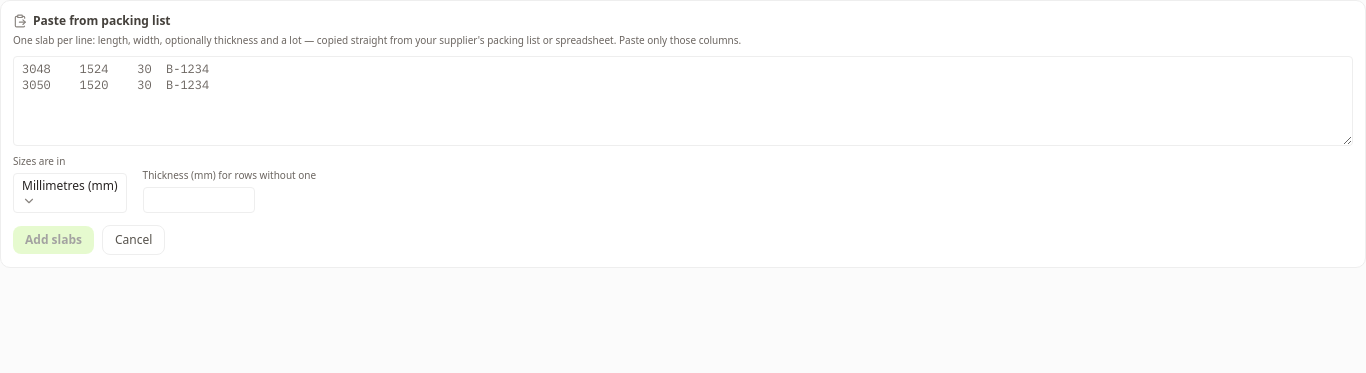
Test case: PackingListPanel › warns about slabs that look too large too
Type "30480 15240 30" into the text box named "Packing list rows" at (683, 101), box top-left (13, 56), bottom-right (1353, 146)
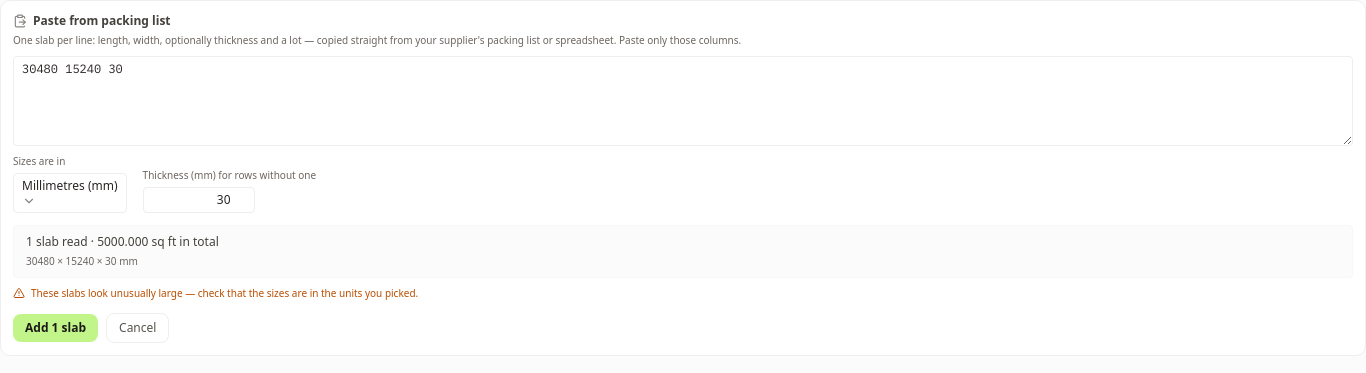
Now the text "look unusually large" is shown, box top-left (13, 286), bottom-right (418, 300)
